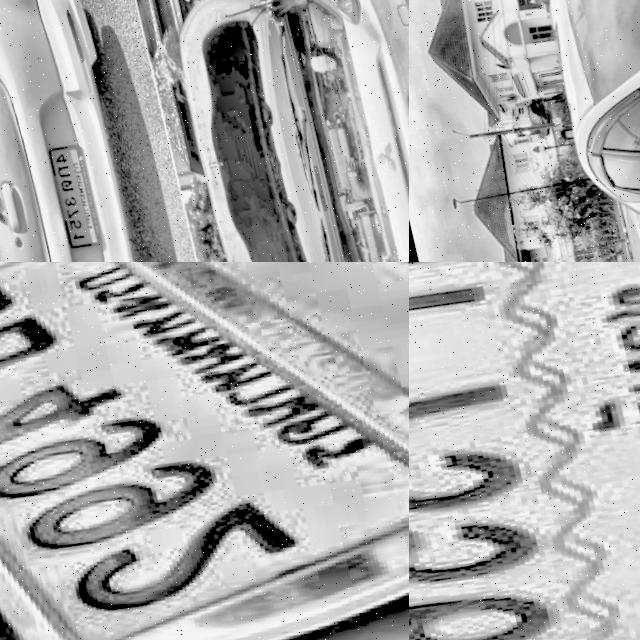license-plate: (0, 262, 409, 640), (409, 262, 640, 640), (41, 133, 103, 251)
